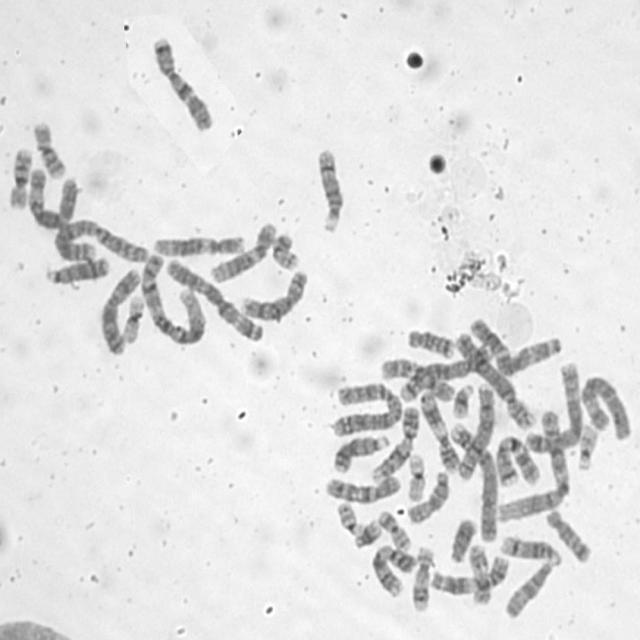A1: (494, 407, 572, 523), (136, 250, 208, 347)
A2: (49, 216, 150, 266), (329, 379, 403, 438)
A3: (162, 253, 266, 345), (469, 316, 564, 377)
B4: (453, 328, 537, 430), (449, 418, 499, 543)
B5: (398, 339, 496, 404), (522, 358, 586, 454)
C10: (378, 354, 458, 402), (322, 472, 404, 505)
C11: (417, 388, 461, 474), (428, 552, 510, 597)
C12: (207, 218, 278, 284), (149, 230, 246, 258)
C6: (578, 374, 634, 444), (25, 164, 81, 232)
C7: (149, 32, 215, 134), (493, 432, 542, 488)
C8: (456, 382, 496, 484), (237, 267, 310, 322)
C9: (368, 402, 421, 484), (369, 542, 417, 598)
D13: (330, 431, 390, 474), (42, 254, 110, 286)
D14: (314, 144, 345, 234), (498, 532, 562, 566)
D15: (502, 557, 557, 621), (405, 468, 451, 525)
E16: (31, 118, 68, 180), (6, 144, 33, 212)
E17: (409, 542, 435, 614), (465, 542, 493, 606)
E18: (544, 506, 592, 564), (405, 326, 456, 358)
F19: (119, 291, 146, 345), (403, 450, 428, 502)
F20: (374, 507, 412, 552), (269, 230, 301, 272)
G21: (351, 518, 384, 550), (450, 380, 476, 420)
G22: (575, 421, 600, 472), (334, 499, 364, 536)
X: (97, 266, 142, 356)
Y: (446, 514, 478, 563)
